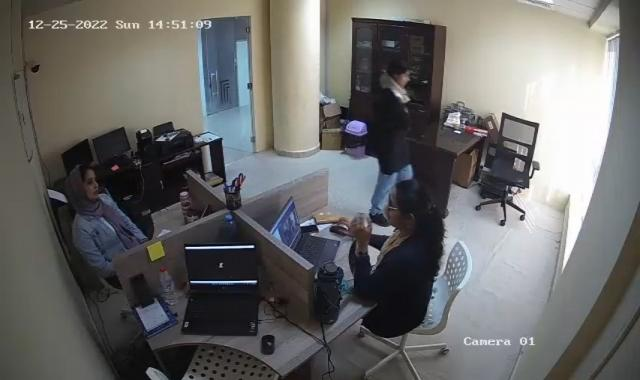no_hairnet: (386, 181, 431, 229), (68, 165, 98, 203), (388, 59, 412, 88)
